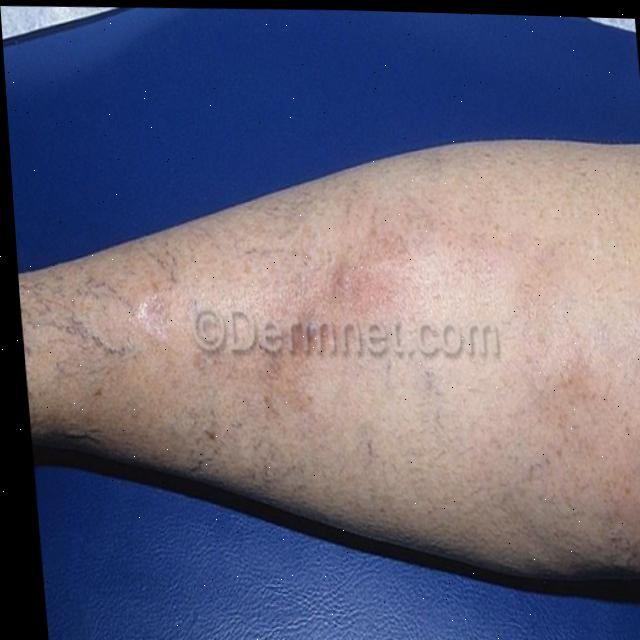Eczema: (239, 229, 433, 425)
